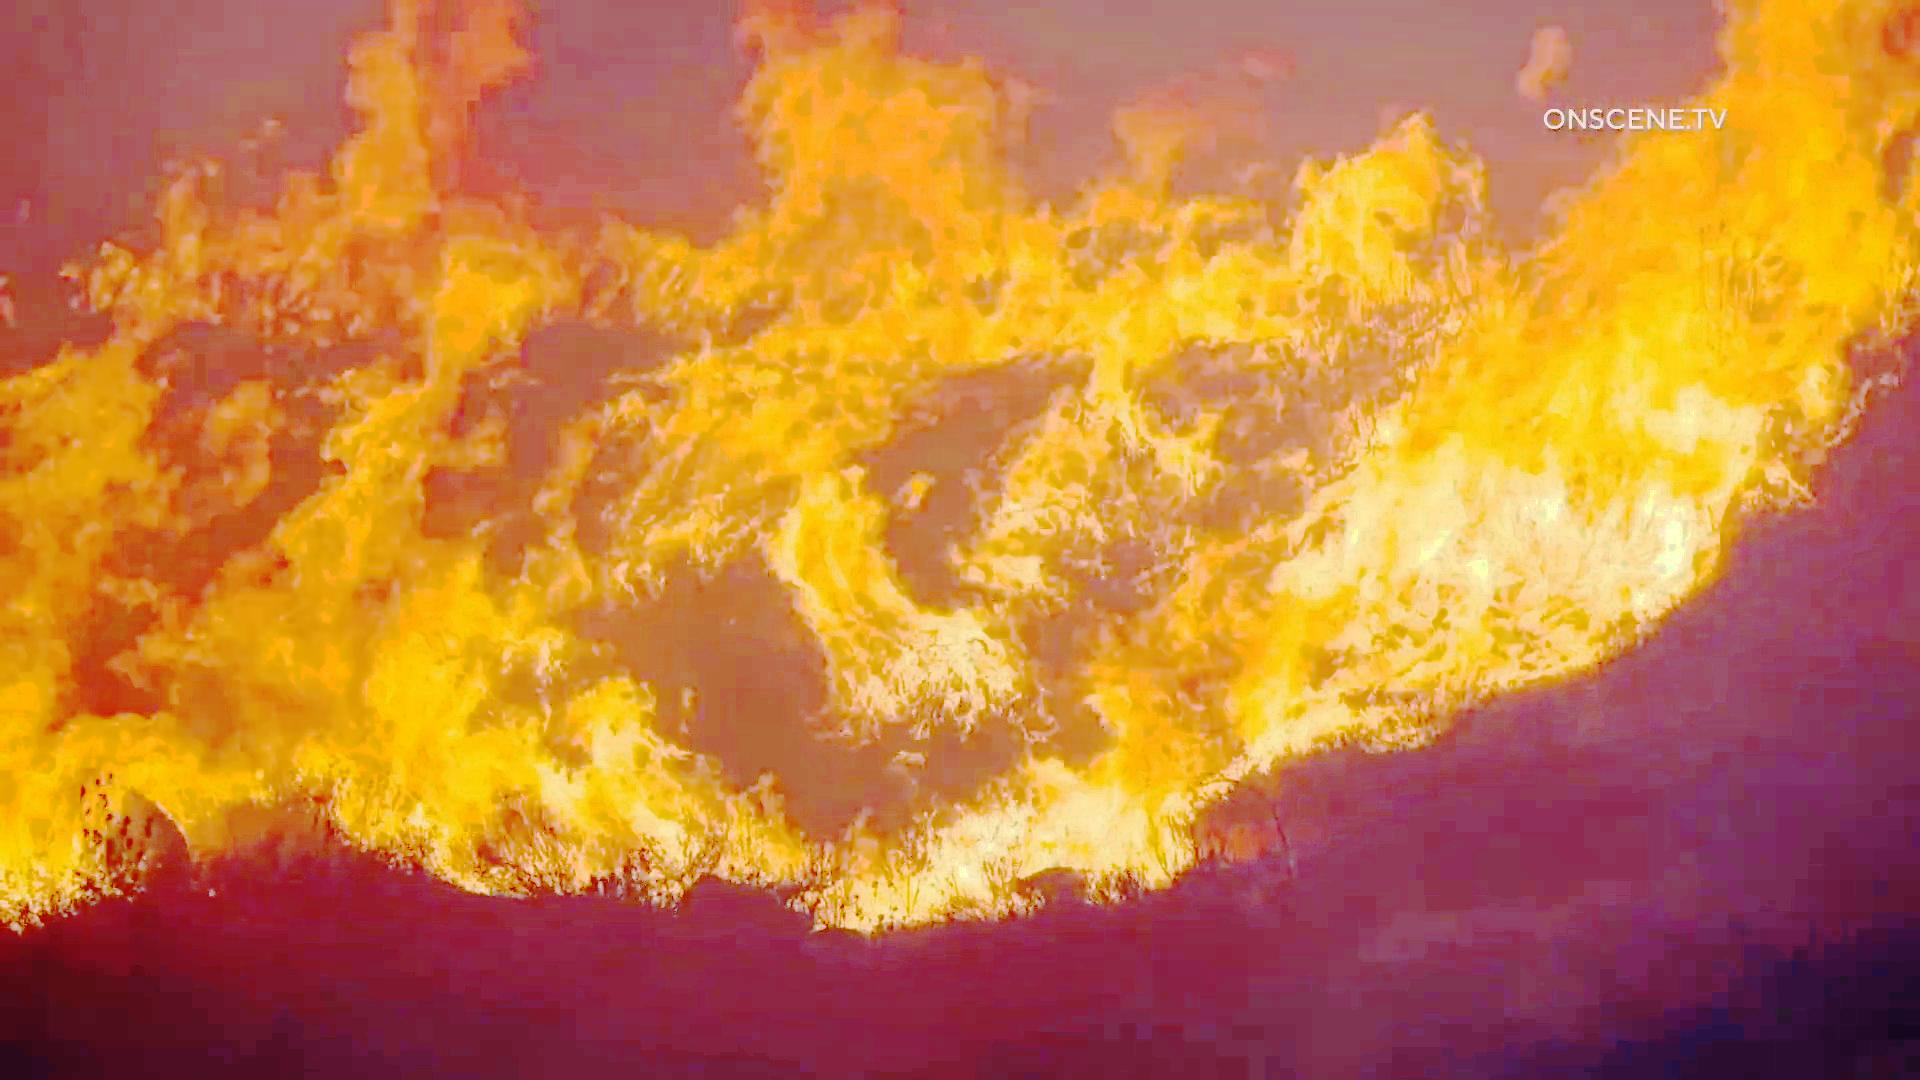fire: (0, 5, 1493, 916), (1487, 142, 1904, 678)
